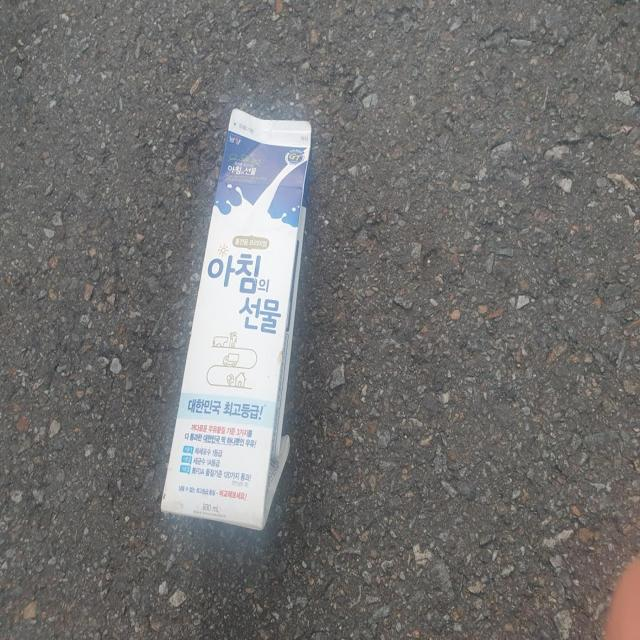paperpack: (161, 108, 311, 530)
